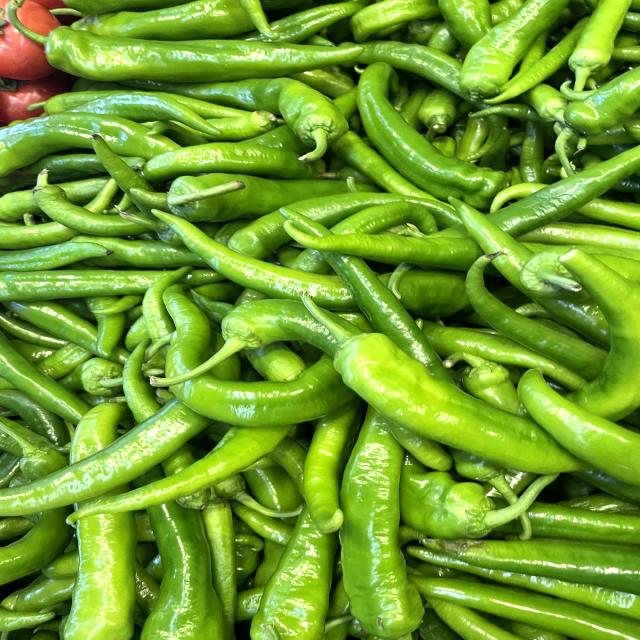green pepper: (0, 14, 373, 83), (336, 402, 419, 640)
